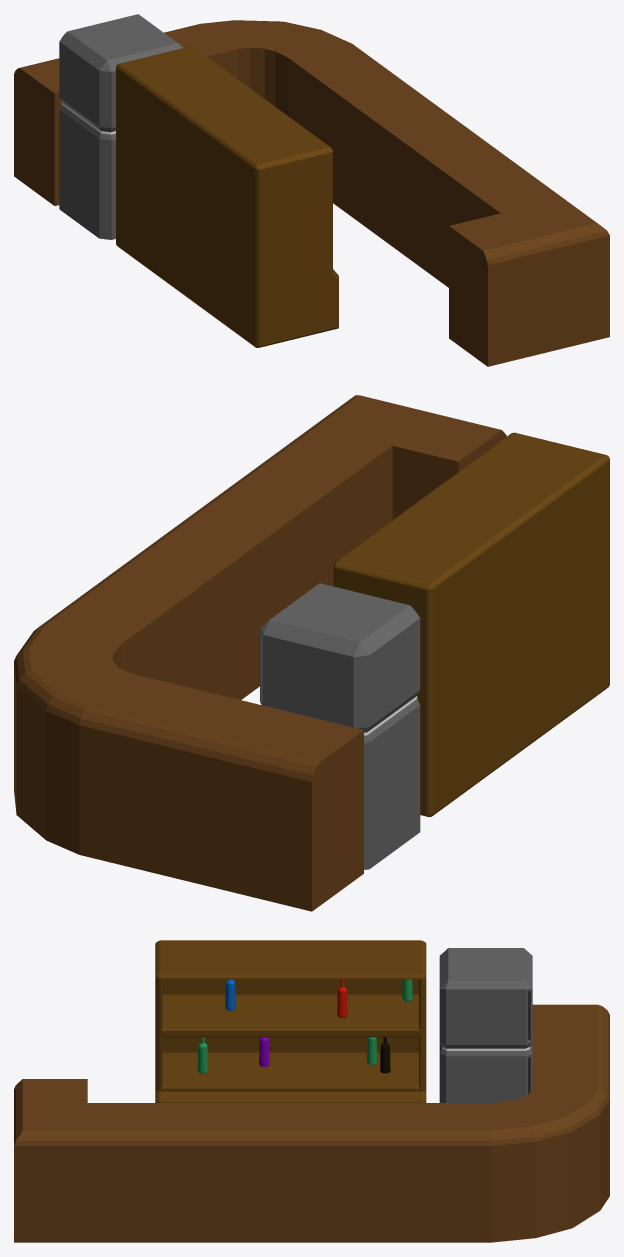
File: Bar.fbx
3 renders of one model, top to bottom at view 1: azimuth 30°, elevation 25°; view 2: azimuth 150°, elevation 25°; view 3: azimuth 270°, elevation 25°, orthographic. The views are drawn at different scales.
Parts seen in each view (by area): view 1: Bar, Storage, Refrigerator; view 2: Bar, Storage, Refrigerator; view 3: Bar, Storage, Refrigerator.
Boxes of the visible parts, x1,y1,x2,y2 form: Bar: [14, 20, 609, 366]; Storage: [116, 46, 338, 347]; Refrigerator: [59, 14, 183, 239]; Bar: [14, 395, 506, 911]; Storage: [333, 432, 609, 817]; Refrigerator: [260, 583, 420, 869]; Bar: [14, 1004, 609, 1242]; Storage: [155, 940, 426, 1102]; Refrigerator: [439, 948, 532, 1102].
Size of the model in its own units: 1472 by 914 by 2833.
